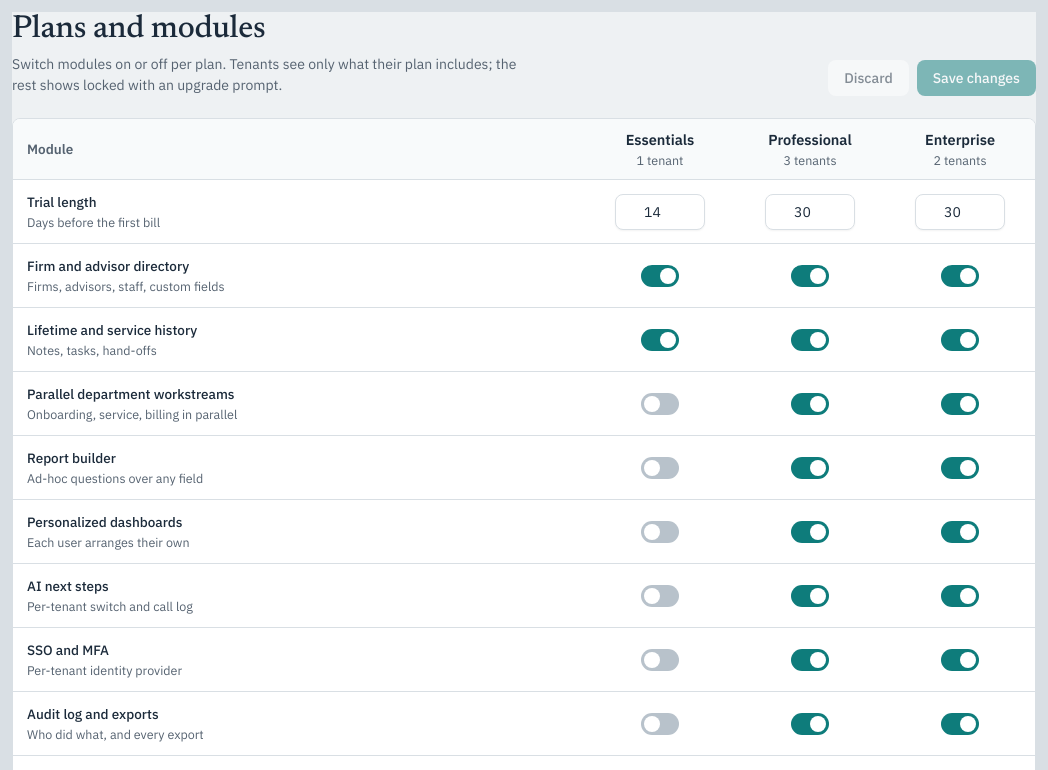
Test: PlansPage: editing › turns Save on for a trial length change too
Expected: the button "Save changes" is shown, 917,60 -> 1036,96
Clear the 1st number field at [660, 212], box 615,194 -> 705,230
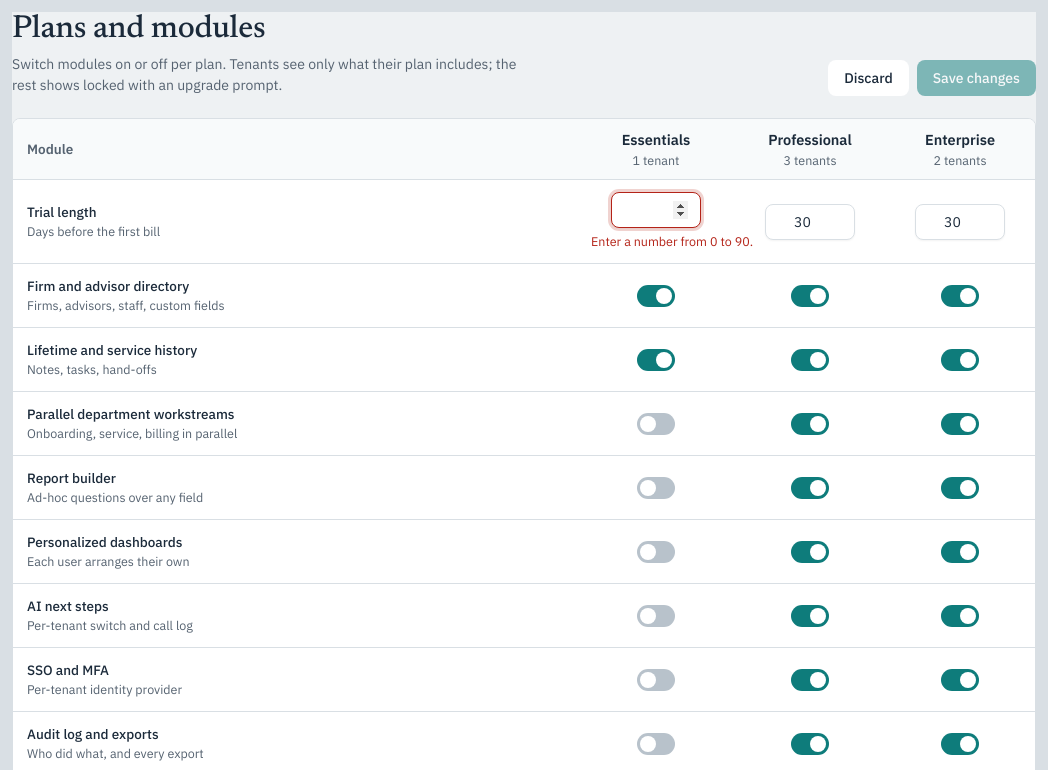
Type "21" into the 1st number field.
click(656, 210); type("21")  # box 611,192 -> 701,228
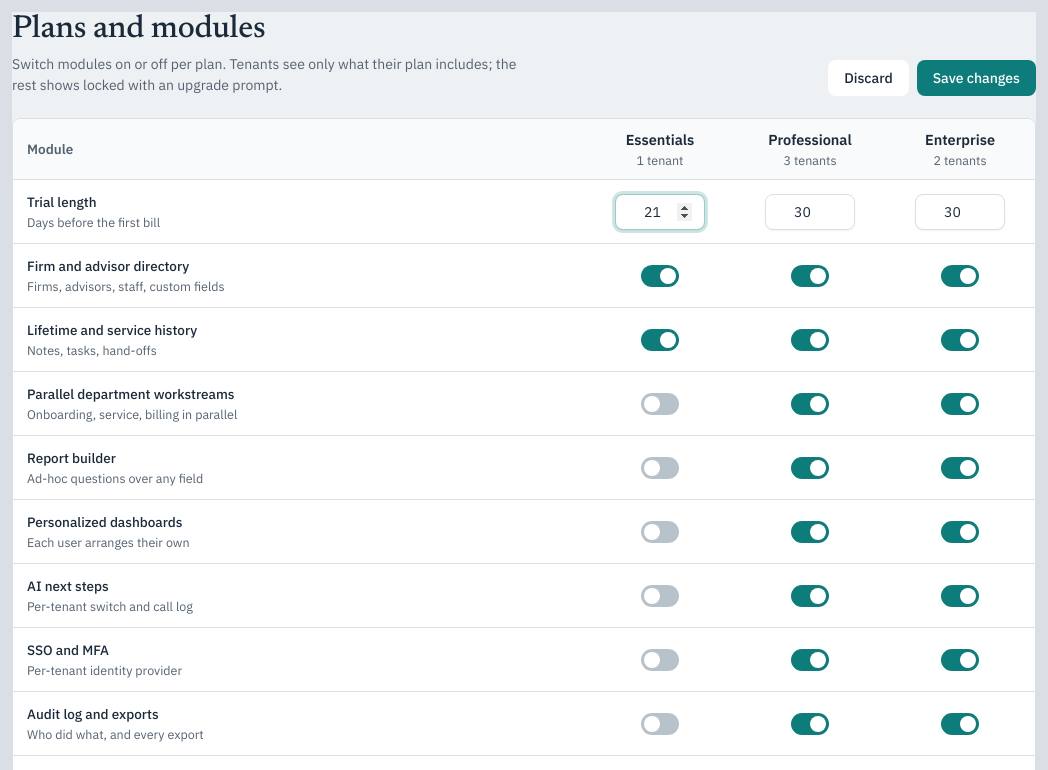
Expected: the button "Save changes" is enabled, 917,60 -> 1036,96
